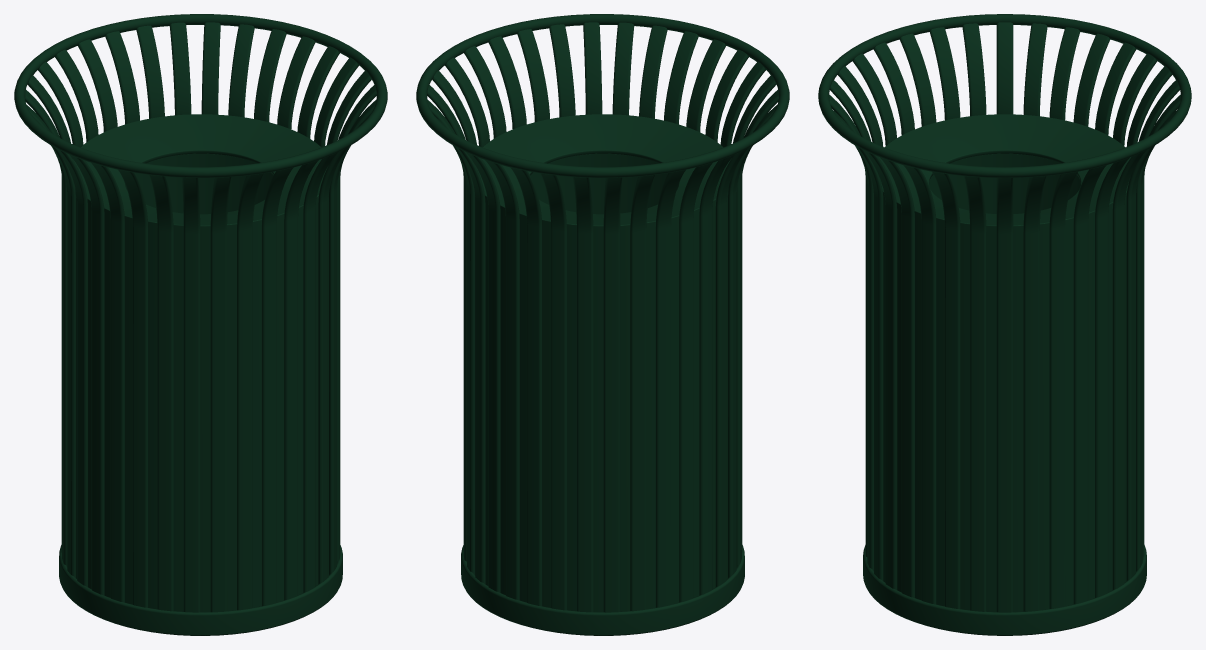
File: TrashBin.fbx
3 renders of one model, left to right at view 1: azimuth 30°, elevation 25°; view 2: azimuth 150°, elevation 25°; view 3: azimuth 270°, elevation 25°, orthographic.
Parts seen in each view (by area): view 1: Trash bin; view 2: Trash bin; view 3: Trash bin.
Part boxes in pixels (x1,y1,x2,y2): Trash bin: (14, 14, 387, 635); Trash bin: (416, 14, 789, 635); Trash bin: (818, 14, 1191, 635).
Size of the model in its own units: 70.62 by 101 by 70.62.
